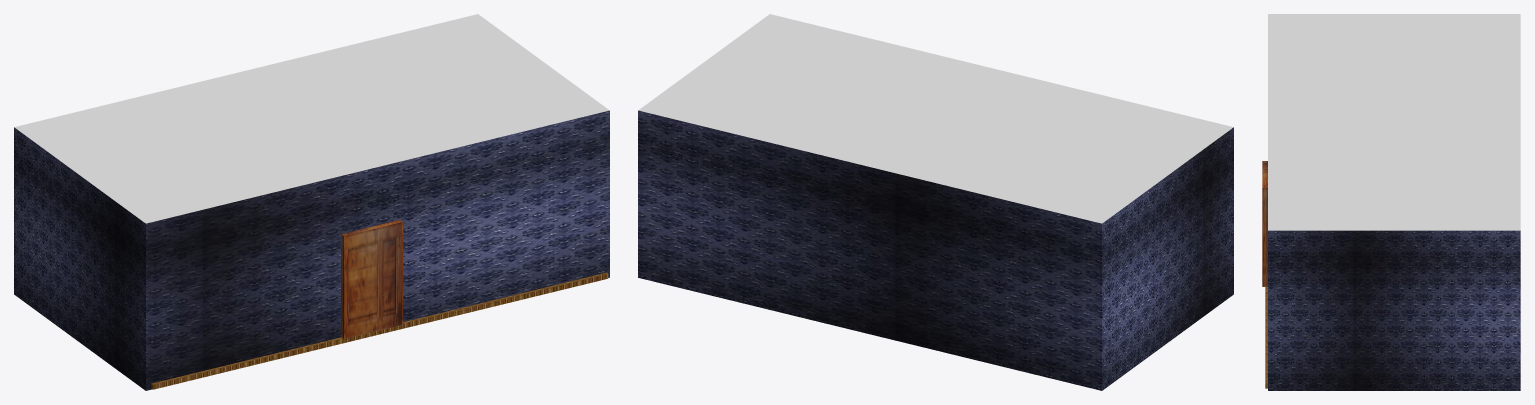
Rendered from komnatayra.fbx.
The picture shows the model from 3 angles, left to right: view 1: azimuth 30°, elevation 25°; view 2: azimuth 150°, elevation 25°; view 3: azimuth 270°, elevation 25°; orthographic projection. The views are drawn at different scales.
Parts seen in each view (by area): view 1: Cube, Cube.001, door, Window.001; view 2: Cube, Cube.001; view 3: Cube.001, Cube, door, Window.001.
Part boxes in pixels (box(x1,y1,x2,y2)): Cube: box(14, 110, 609, 390); Cube.001: box(14, 14, 609, 223); door: box(341, 220, 402, 339); Window.001: box(151, 272, 608, 389); Cube: box(638, 110, 1233, 390); Cube.001: box(638, 14, 1233, 223); Cube.001: box(1268, 14, 1520, 230); Cube: box(1268, 230, 1520, 390); door: box(1262, 161, 1267, 286); Window.001: box(1265, 287, 1267, 388).
Size of the model in its own units: 891 by 307 by 448.
